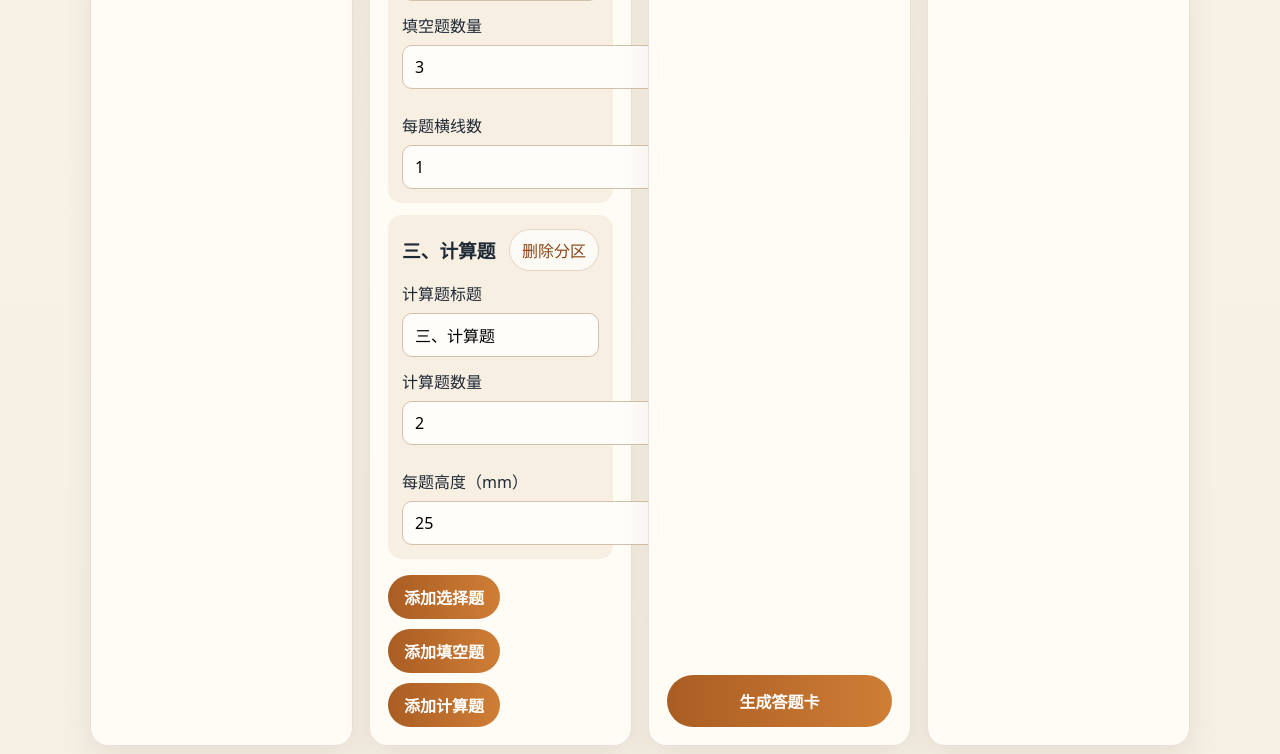
Test: shows backend message after failed submission
(page scrolled)
What coordinates should you click on to do the following:
click the button "生成答题卡"
I would click on:
 (780, 701)
Its box is [667,675,892,727].
(page scrolled)
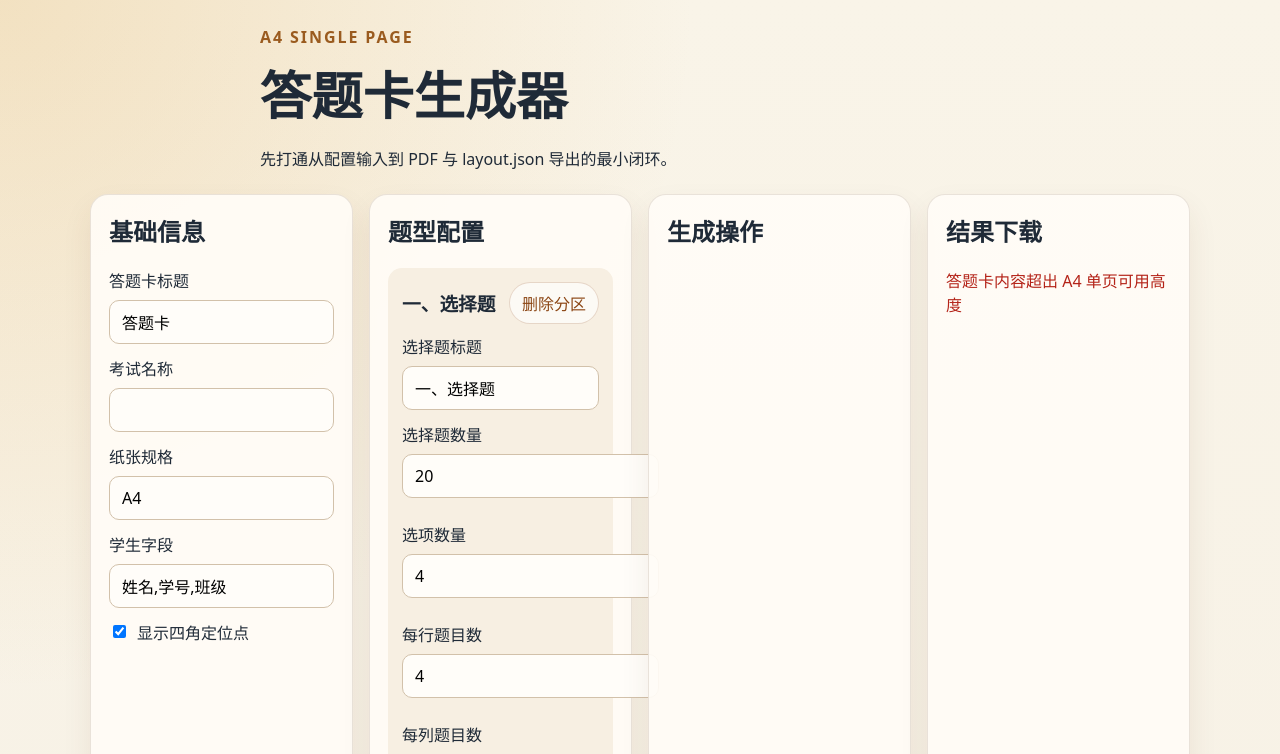
Check: the text "答题卡内容超出 A4 单页可用高度" is shown, box [946,268,1171,316]
